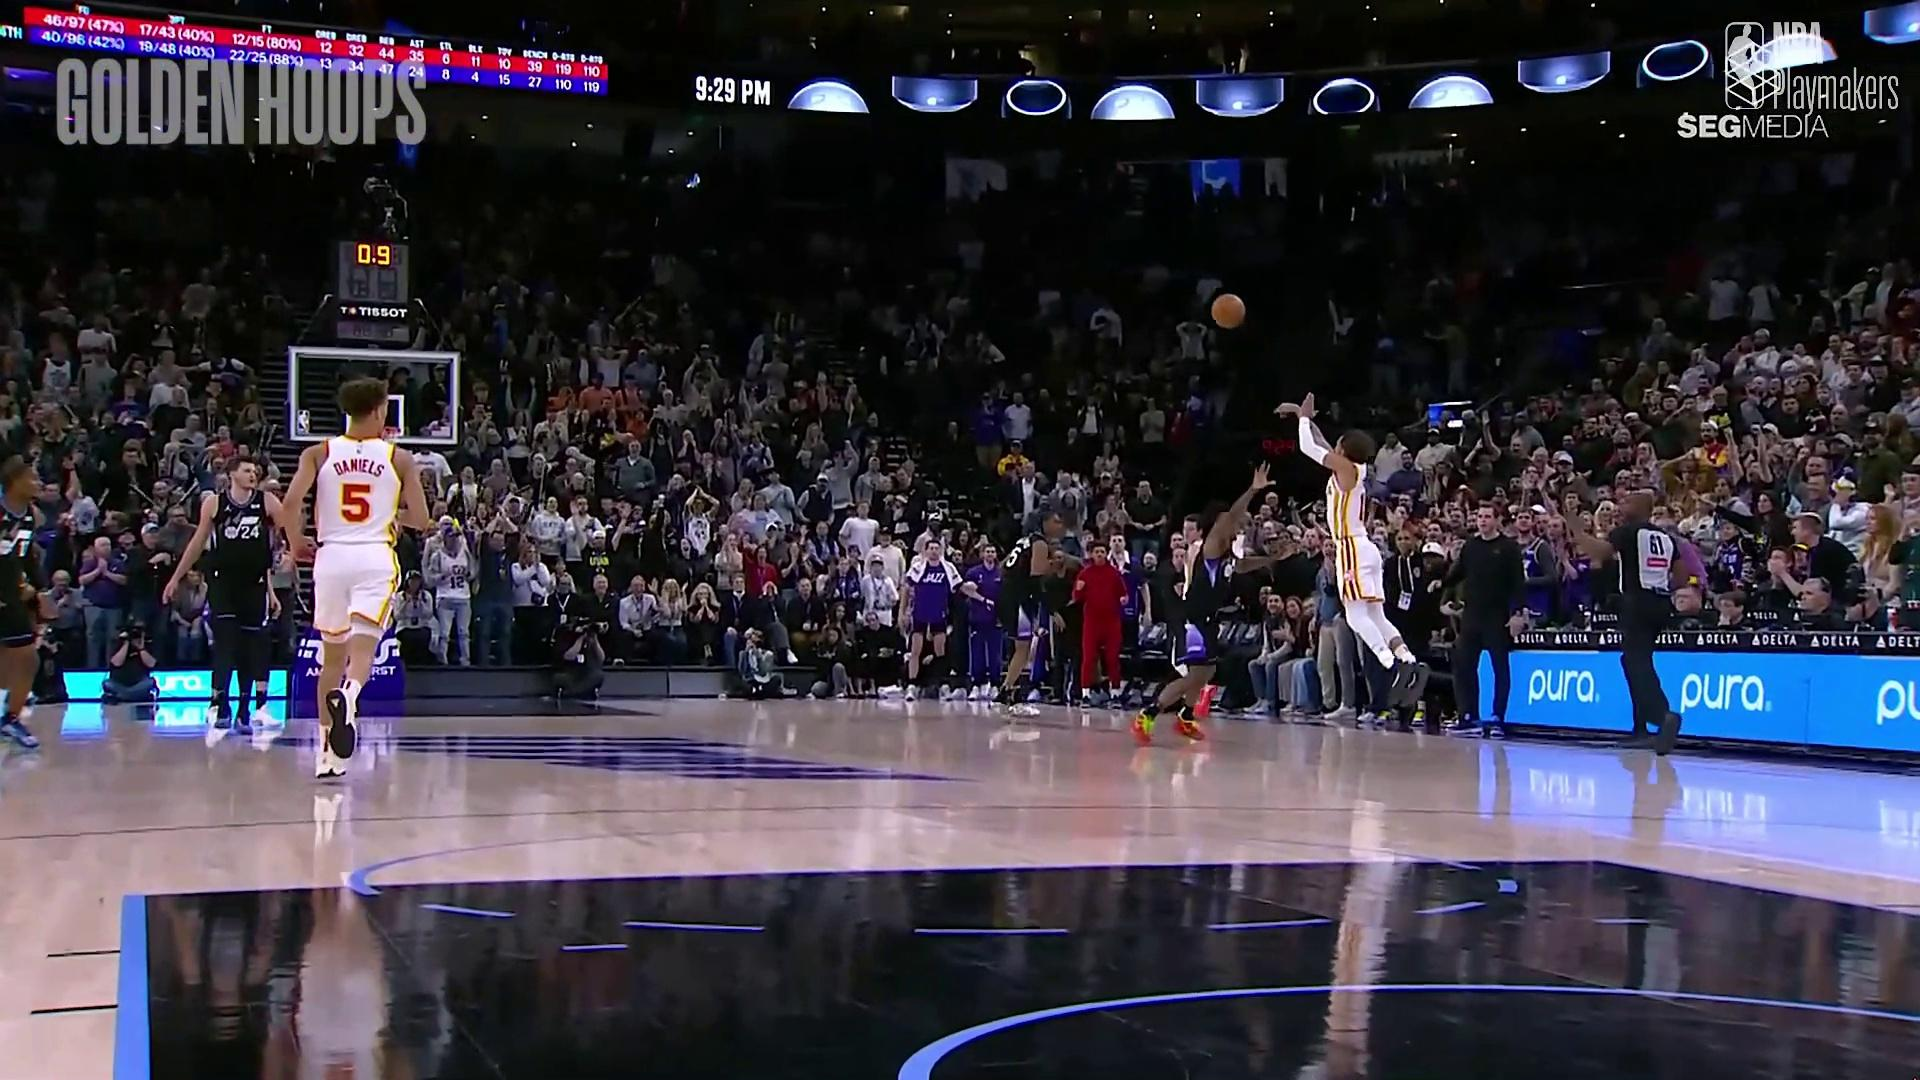ball: (1208, 285, 1250, 336)
